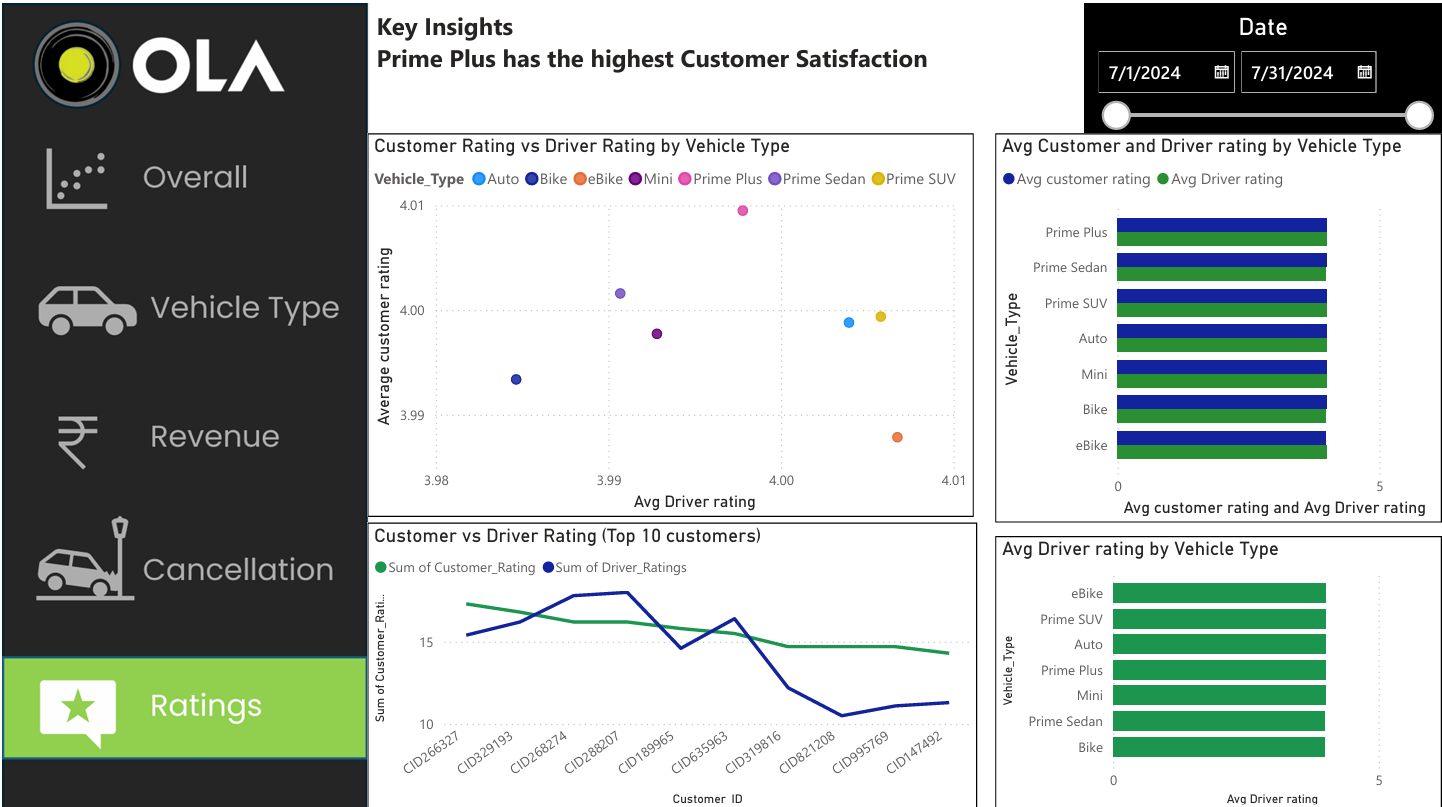

The dashboard page shown, as its layout file describes it:
{"tool":"powerbi","page":{"name":"Ratings","canvas":[1280,720],"ordinal":4},"visuals":[{"type":"image","box":[0,0,326.6,720.4],"z":0},{"type":"slicer","title":"Date","fields":{"Values":["July.Date"]},"box":[960.6,0,319.7,115.3],"z":1000},{"type":"scatterChart","title":"Customer Rating vs Driver Rating by Vehicle Type","fields":{"X":["July.Avg Driver rating"],"Y":["July.Average customer rating"],"Series":["July.Vehicle_Type"]},"box":[323.8,115.3,539.3,340.3],"z":2000},{"type":"clusteredBarChart","title":"Avg Driver rating by Vehicle Type","fields":{"Y":["July.Avg Driver rating"],"Category":["July.Vehicle_Type"]},"box":[882.3,473.4,397.9,245.6],"z":3000},{"type":"lineChart","title":"Customer vs Driver Rating (Top 10 customers)","fields":{"Category":["July.Customer_ID"],"Y":["Sum(July.Customer_Rating)","Sum(July.Driver_Ratings)"]},"box":[323.8,461.1,542,258],"z":4000},{"type":"actionButton","box":[0,113.9,323.8,89.2],"z":5000},{"type":"actionButton","box":[0,231.9,323.8,89.2],"z":6000},{"type":"actionButton","box":[0,347.2,323.8,89.2],"z":7000},{"type":"actionButton","box":[0,463.8,324.6,89.9],"z":8000},{"type":"clusteredBarChart","title":"Avg  Customer and Driver rating by Vehicle Type","fields":{"Y":["July.Average customer rating","July.Avg Driver rating"],"Category":["July.Vehicle_Type"]},"box":[882.3,115.3,397.9,345.8],"z":9000},{"type":"textbox","box":[326.6,0,634,96.1],"z":10000}]}

Visuals, with their boxes in screenshot pixels (x1, y1, x2, y2), scaled from the page's 1280x720 canvas onto the 1442x807 screenshot:
image: Rect(0, 0, 368, 806)
"Date" slicer: Rect(1082, 0, 1441, 129)
"Customer Rating vs Driver Rating by Vehicle Type" scatterChart: Rect(365, 129, 972, 511)
"Avg Driver rating by Vehicle Type" clusteredBarChart: Rect(994, 531, 1441, 806)
"Customer vs Driver Rating (Top 10 customers)" lineChart: Rect(365, 517, 975, 806)
actionButton: Rect(0, 128, 365, 228)
actionButton: Rect(0, 260, 365, 360)
actionButton: Rect(0, 389, 365, 489)
actionButton: Rect(0, 520, 366, 621)
"Avg  Customer and Driver rating by Vehicle Type" clusteredBarChart: Rect(994, 129, 1441, 517)
textbox: Rect(368, 0, 1082, 108)
